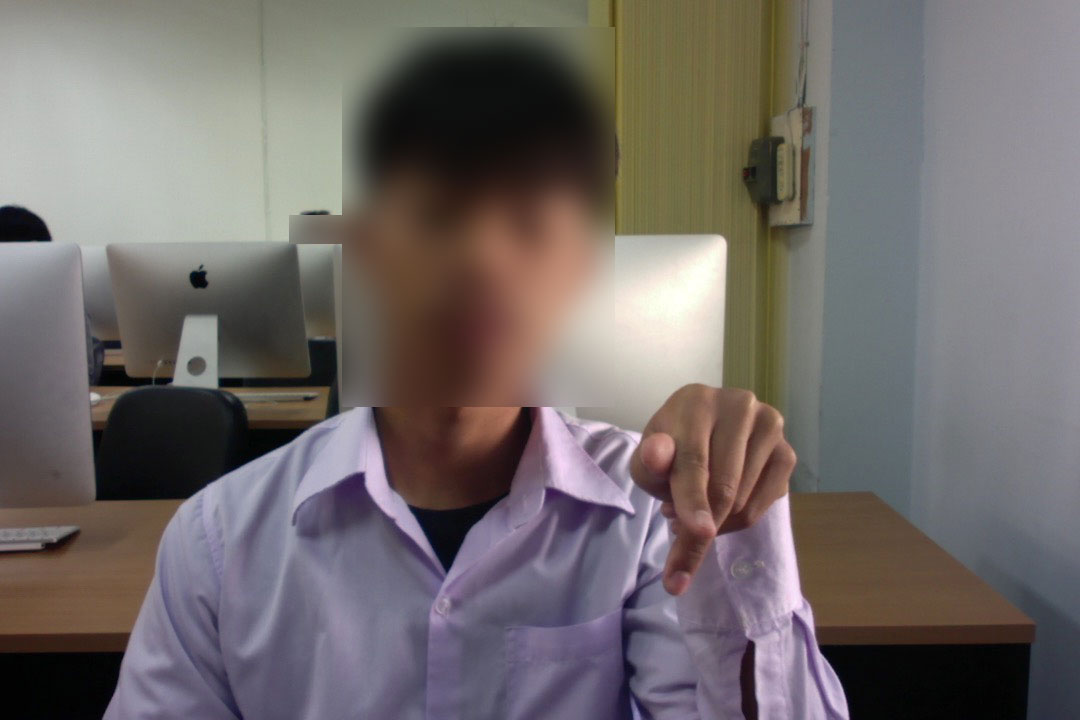por: (618, 371, 802, 602)
